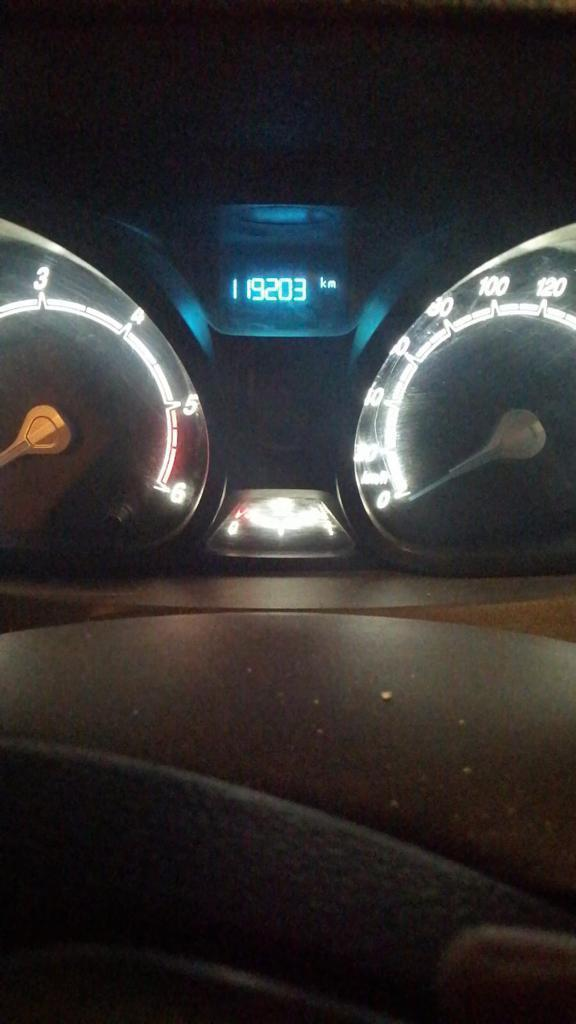0: (278, 277, 292, 300)
1: (231, 276, 237, 300), (246, 278, 251, 300)
2: (264, 276, 278, 301)
3: (293, 276, 307, 301)
9: (251, 277, 264, 300)
X: (327, 278, 336, 289), (319, 275, 326, 288)
odometer: (214, 262, 343, 312)
